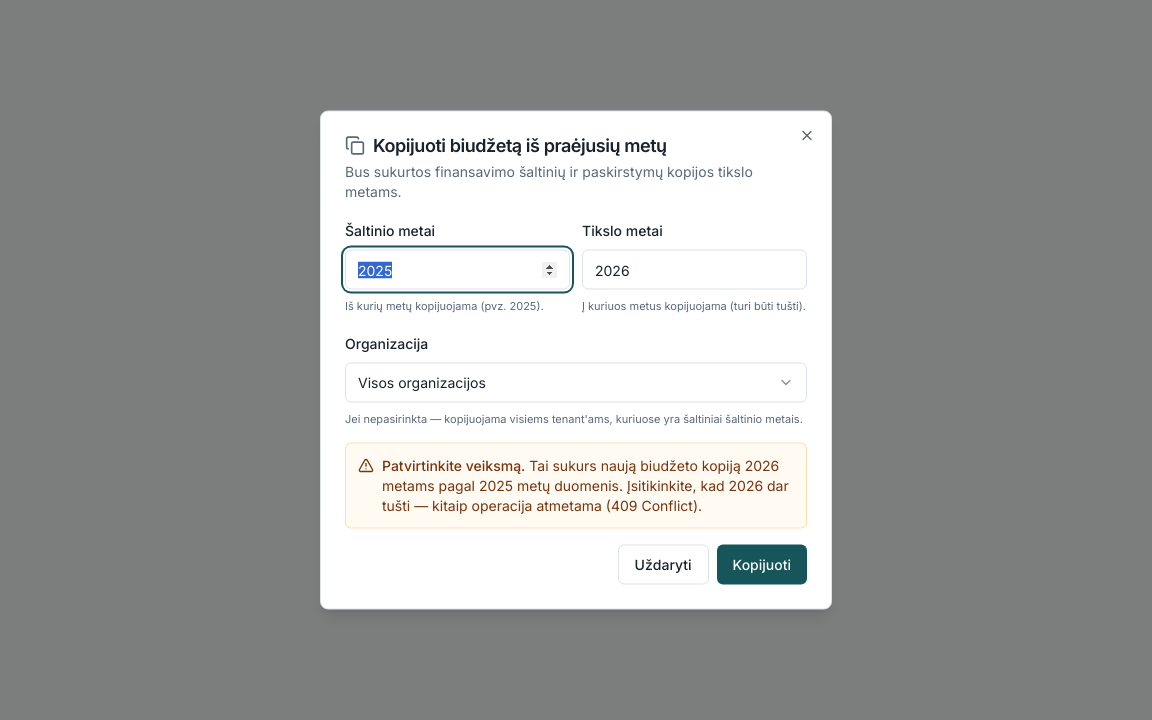
CopyBudgetDialog (Iter 15, F16) › submit kviečia copyFromYear API su tinkamais duomenimis ir rodo sėkmės žinutę
The image size is (1152, 720).
Check: the number field with test id "copy-source-year-input" holds "2025", box [345,250,570,290]
Check: the number field with test id "copy-target-year-input" holds "2026", box [582,250,807,290]
Click the button with test id "copy-submit" at (762, 564), box [717,544,807,584]
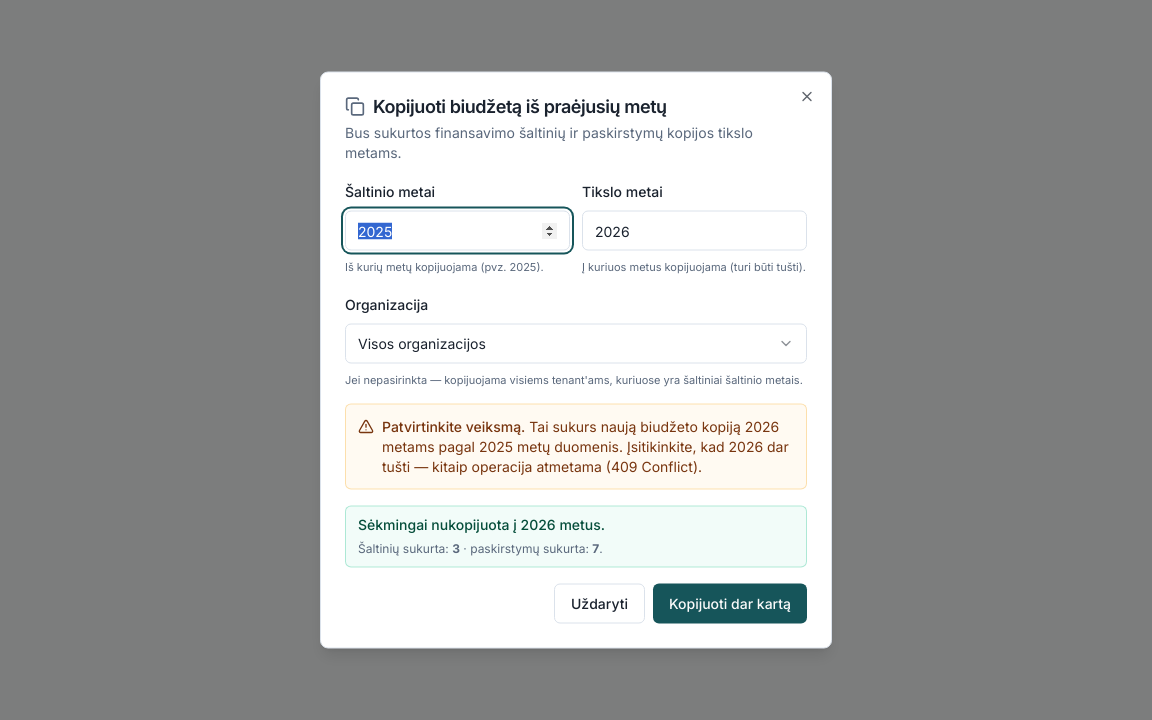
Check: the message with test id "copy-result" is shown, box [345,506,807,568]
Check: the text "Sėkmingai nukopijuota į 2026 metus." is shown, box [358,516,605,532]
